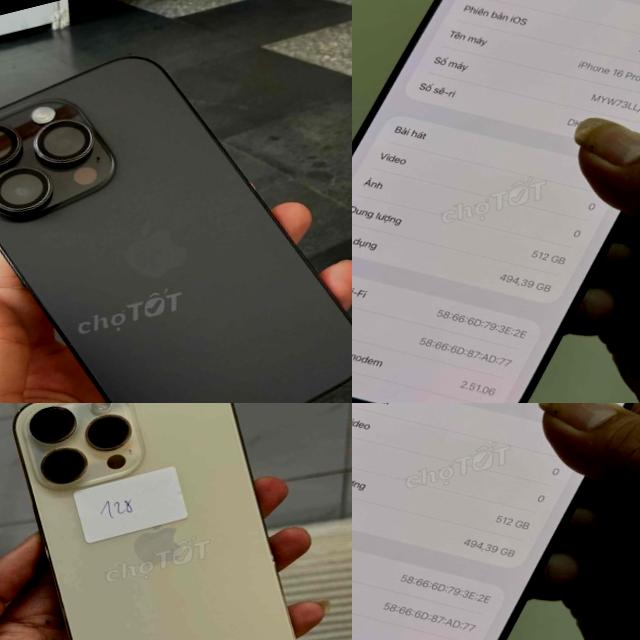gen_14: (0, 16, 352, 403), (0, 403, 330, 640)
gen_16: (352, 0, 640, 403), (352, 403, 581, 640)
